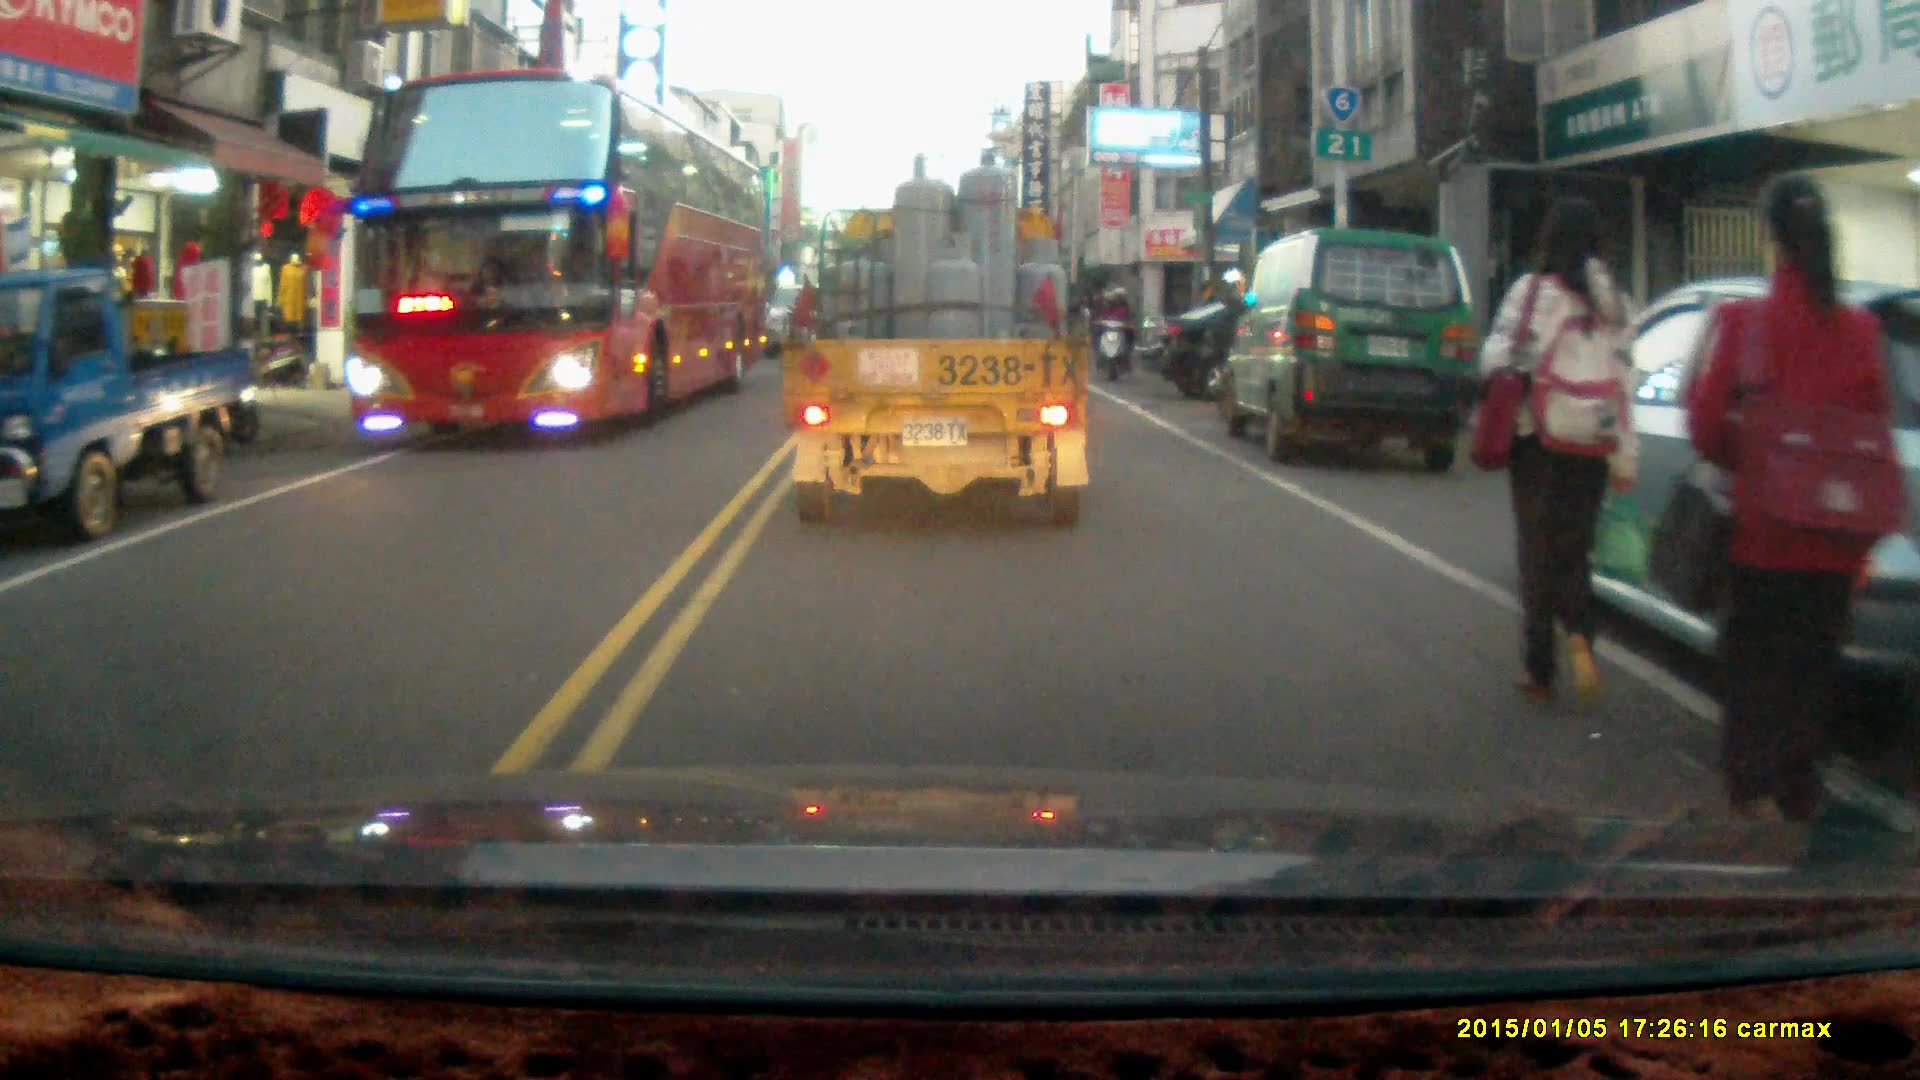pedestrian: (1688, 181, 1907, 888), (1478, 196, 1651, 729)
rider: (1091, 284, 1136, 380)
vehicle: (340, 72, 778, 447), (785, 149, 1096, 535), (1, 266, 263, 544), (1224, 227, 1477, 467), (1133, 303, 1431, 405)
